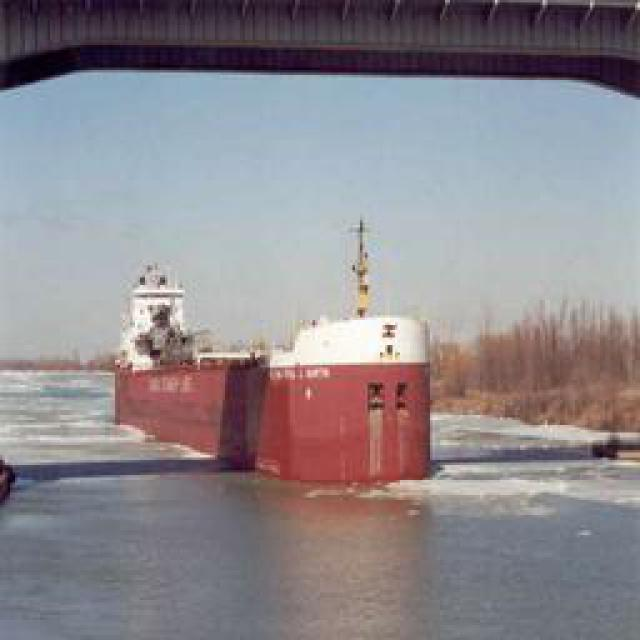Ship: (110, 260, 444, 494)
